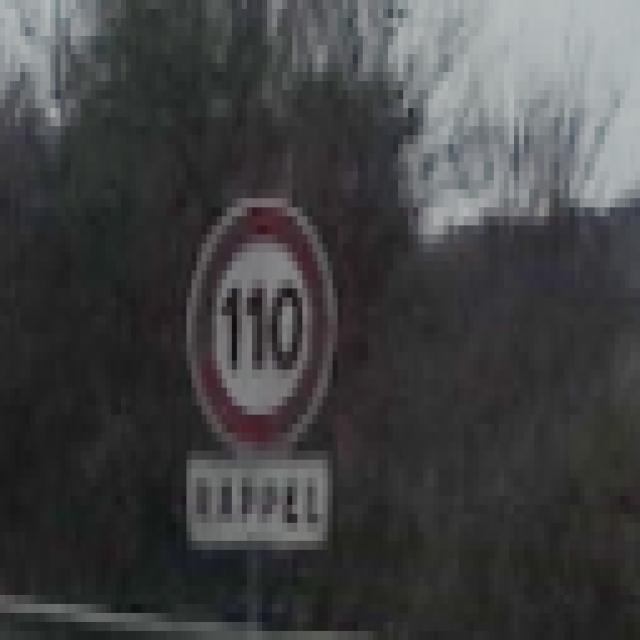speed_110: (185, 190, 342, 462)
